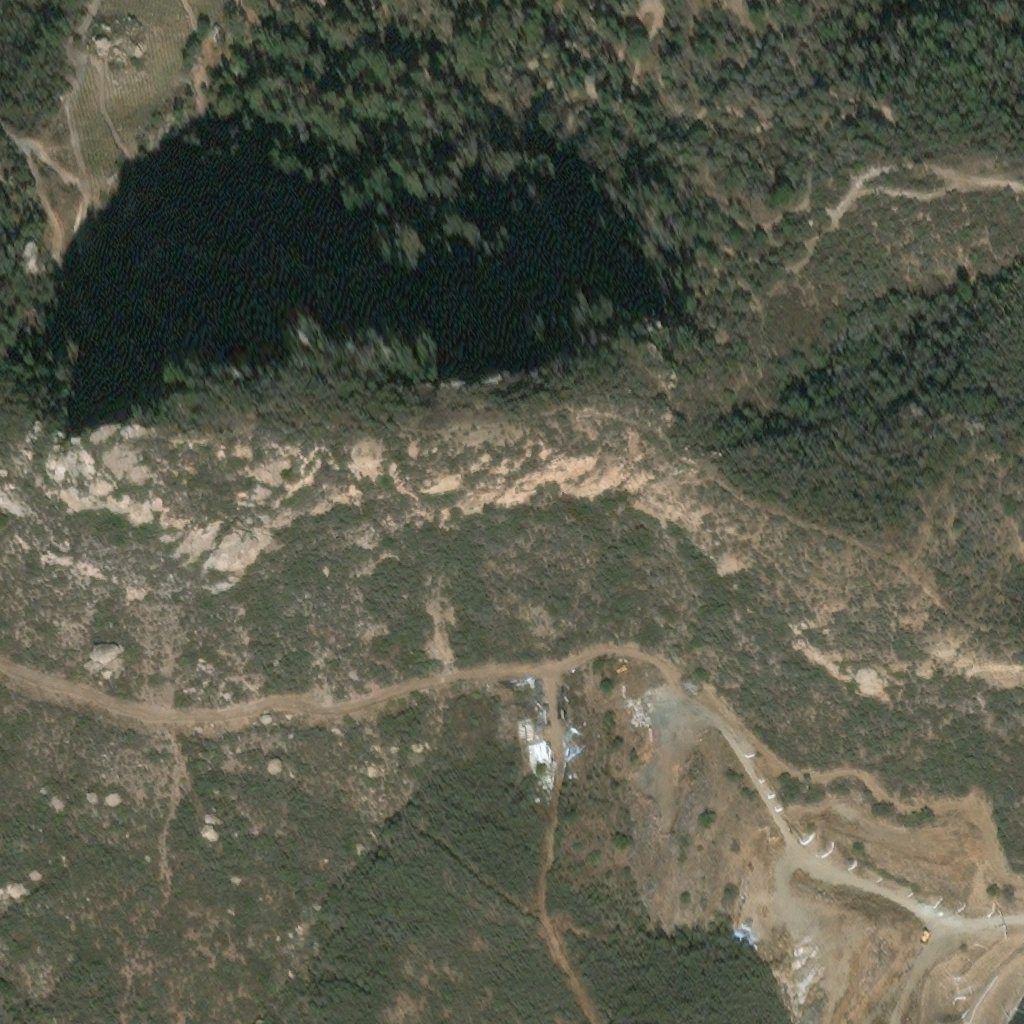4 un-classified: (729, 924, 745, 937)
